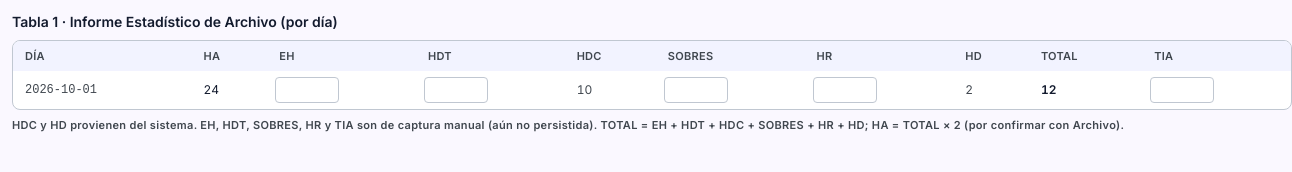
Test case: TablaInformeEstadistico › calcula TOTAL y HA con los valores derivados y la captura manual
Check: the text "12" is shown, box top-left (1029, 71), bottom-right (1142, 109)
Check: the text "24" is shown, box top-left (192, 71), bottom-right (267, 109)
Type "3" into the number field named "EH 2026-10-01" at (307, 90), box top-left (275, 77), bottom-right (339, 103)
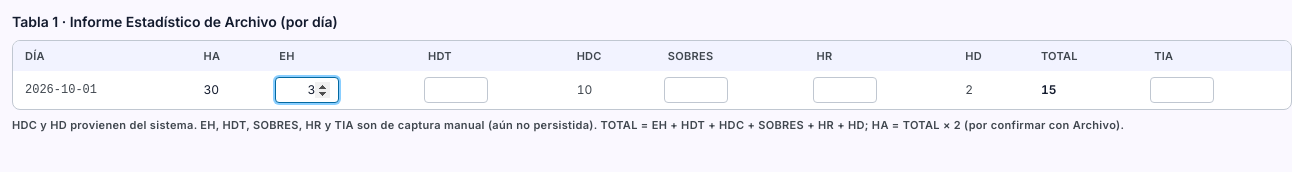
Check: the text "15" is shown, box top-left (1029, 71), bottom-right (1142, 109)
Check: the text "30" is shown, box top-left (192, 71), bottom-right (267, 109)
